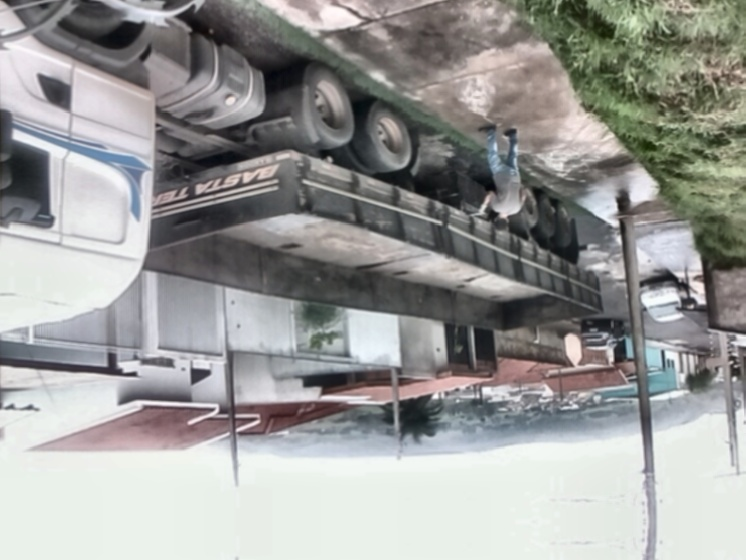person: (471, 124, 528, 233)
